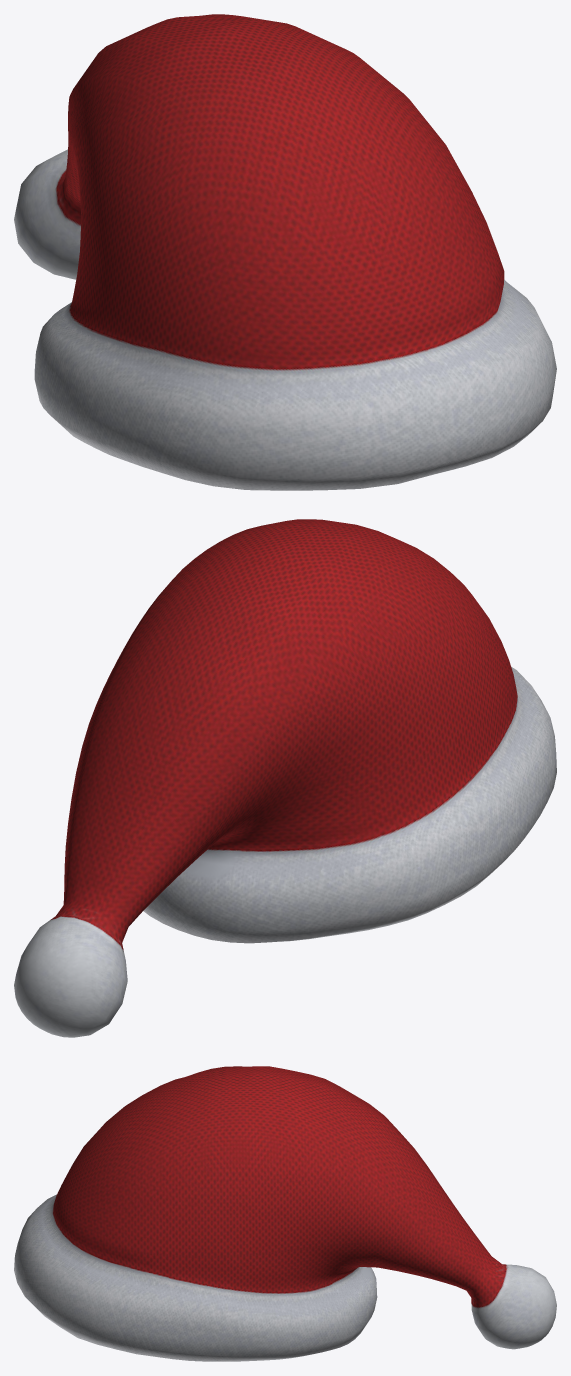
Rendered from santa_hat.glb.
3 renders of one model, top to bottom at view 1: azimuth 30°, elevation 25°; view 2: azimuth 150°, elevation 25°; view 3: azimuth 270°, elevation 25°, orthographic. The views are drawn at different scales.
Parts seen in each view (by area): view 1: Object_2; view 2: Object_2; view 3: Object_2.
Boxes of the visible parts, x1,y1,x2,y2 form: Object_2: (14, 14, 556, 490); Object_2: (14, 519, 556, 1037); Object_2: (14, 1066, 556, 1361).
Size of the model in its own units: 17.89 by 16.35 by 31.46.
1 material, 1 textured.
